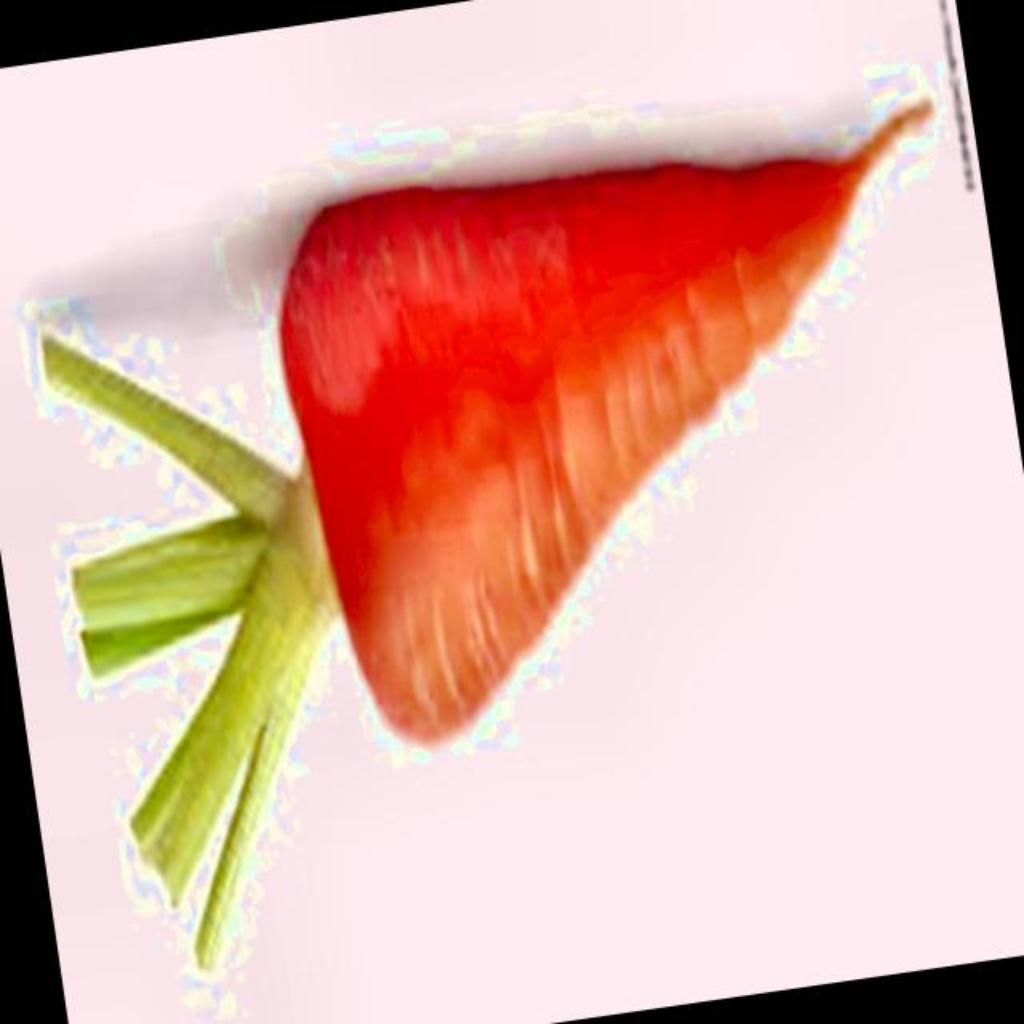carrot: (42, 102, 932, 967)
